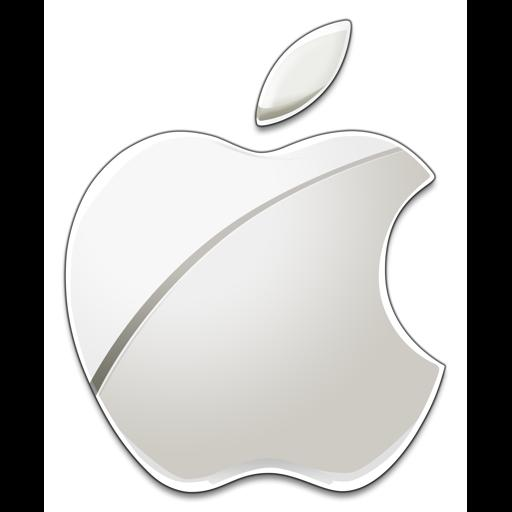Apple: (44, 0, 467, 512)
